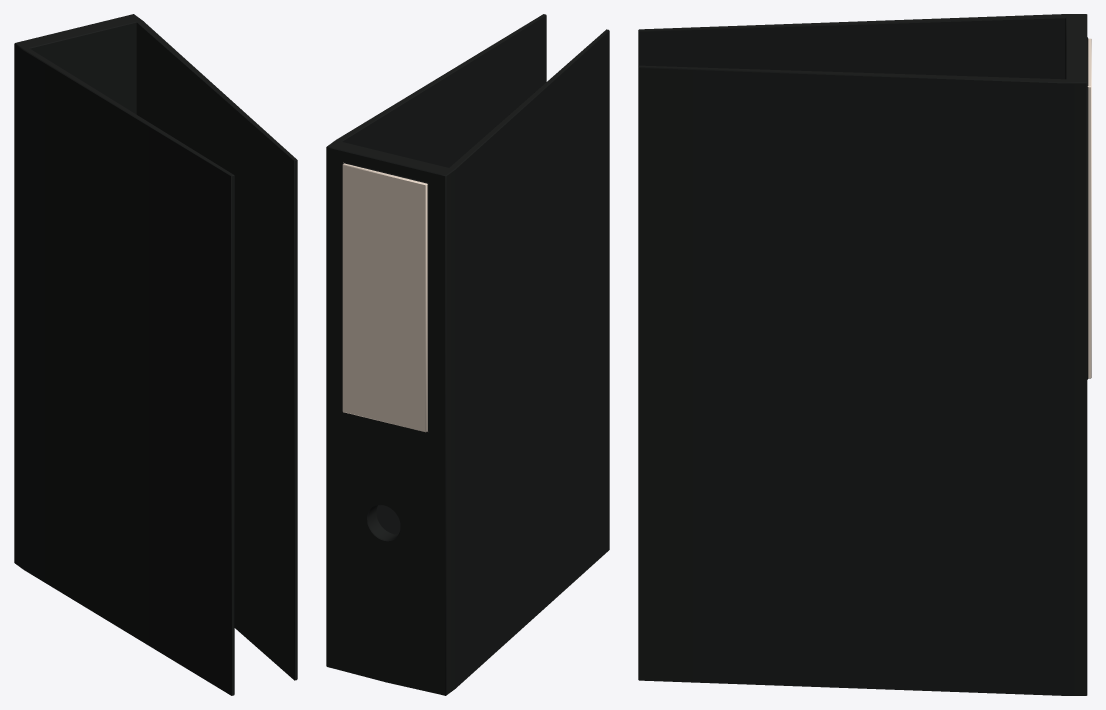
File: Ordner.fbx
3 views of the same model, side by side, from view 1: azimuth 30°, elevation 25°; view 2: azimuth 150°, elevation 25°; view 3: azimuth 270°, elevation 25° (orthographic). The views are drawn at different scales.
Parts seen in each view (by area): view 1: Ordner; view 2: Ordner; view 3: Ordner.
Part boxes in pixels (x1=…): Ordner: x1=14, y1=14, x2=297, y2=695; Ordner: x1=326, y1=14, x2=609, y2=695; Ordner: x1=638, y1=14, x2=1091, y2=695.
Size of the model in its own units: 8.9 by 36.96 by 24.72.
